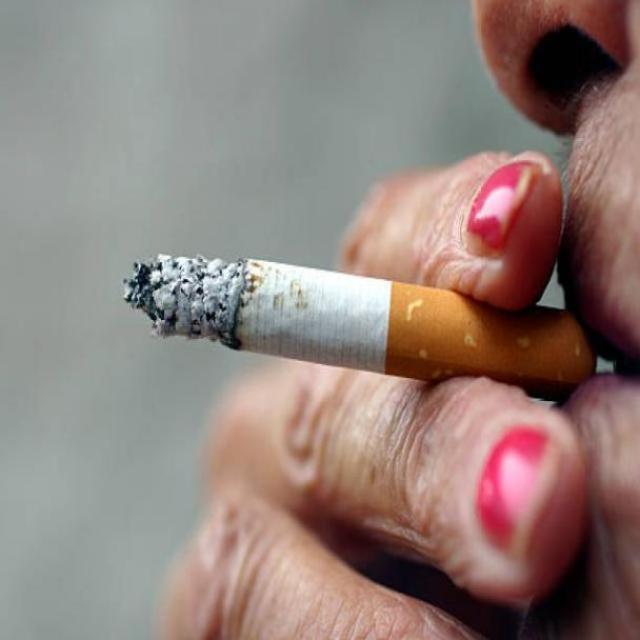rokok: (115, 248, 640, 424)
